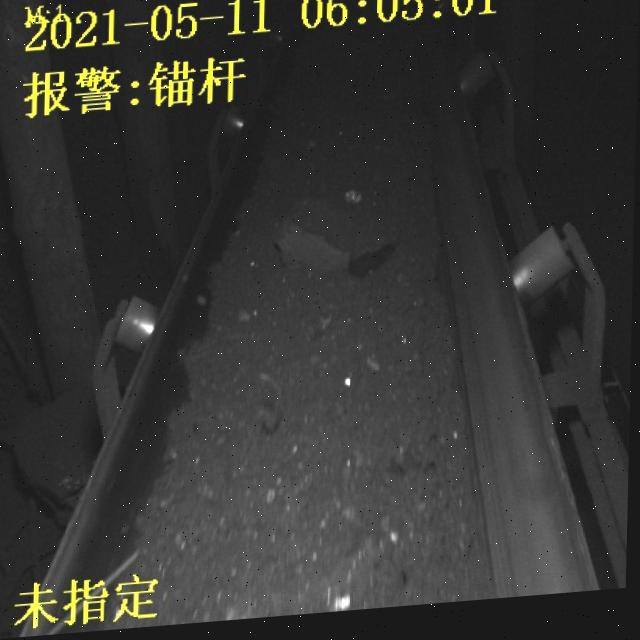large_sized_coal: (279, 199, 396, 285)
